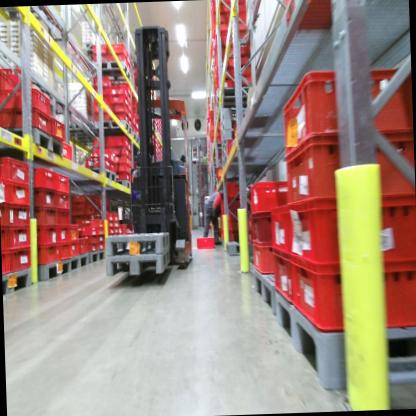pallet: (275, 287, 416, 382), (109, 248, 172, 280), (103, 230, 169, 260), (14, 124, 65, 162), (249, 271, 279, 319), (33, 256, 73, 287), (2, 265, 34, 296), (219, 81, 259, 105), (95, 60, 132, 85), (96, 116, 133, 140), (219, 108, 250, 129), (89, 166, 117, 186), (66, 119, 98, 135), (225, 237, 248, 259), (71, 253, 90, 272), (87, 249, 107, 266), (218, 119, 234, 139), (221, 131, 231, 152), (119, 177, 131, 189), (132, 131, 140, 143), (224, 155, 228, 169)
pallet_truck: (119, 21, 196, 278)
small_load_carrier: (286, 132, 415, 281), (279, 59, 414, 160), (291, 242, 416, 336), (250, 174, 291, 217), (2, 87, 53, 116), (2, 107, 52, 136), (270, 248, 294, 307), (271, 202, 295, 256), (223, 139, 244, 197), (251, 238, 283, 274), (0, 68, 35, 98), (0, 154, 33, 185), (251, 211, 275, 247), (30, 185, 58, 212), (8, 176, 31, 206), (30, 167, 58, 191), (6, 202, 31, 228), (33, 203, 59, 228), (10, 228, 32, 257), (9, 245, 34, 270), (34, 224, 59, 246), (36, 243, 60, 264), (84, 154, 112, 169), (52, 117, 67, 144), (211, 9, 233, 26), (210, 77, 238, 90), (93, 148, 117, 163), (107, 42, 127, 59), (221, 197, 244, 211), (215, 33, 235, 48), (215, 43, 235, 58), (58, 192, 73, 212), (220, 208, 243, 221), (57, 174, 71, 195), (221, 218, 242, 232), (111, 150, 129, 166), (2, 249, 13, 275), (219, 228, 241, 241), (108, 103, 128, 117), (1, 226, 12, 251), (233, 29, 251, 44), (110, 84, 128, 99), (110, 92, 129, 106), (77, 218, 106, 227), (218, 65, 238, 78), (212, 19, 230, 33), (109, 54, 128, 67), (92, 74, 111, 87), (110, 135, 129, 148), (58, 208, 71, 227), (0, 177, 9, 204), (0, 206, 11, 228), (115, 168, 132, 182), (92, 84, 110, 97), (92, 134, 110, 147), (92, 42, 109, 55), (59, 241, 72, 258), (63, 141, 74, 161), (78, 236, 89, 256), (233, 44, 254, 54), (93, 94, 110, 106), (111, 145, 128, 157), (61, 226, 72, 244), (238, 53, 254, 65), (232, 20, 251, 30), (213, 1, 232, 11), (80, 226, 99, 236), (239, 74, 254, 86), (110, 112, 128, 122), (219, 57, 236, 67), (232, 1, 247, 12), (114, 162, 129, 173), (92, 104, 110, 113), (100, 210, 113, 222), (70, 224, 81, 238), (92, 112, 109, 121), (70, 239, 79, 256), (239, 65, 254, 75), (232, 11, 247, 21), (91, 53, 109, 61), (88, 241, 98, 250), (97, 226, 107, 235), (247, 227, 253, 242), (127, 114, 133, 128), (88, 235, 99, 242), (126, 82, 131, 97), (246, 215, 252, 227), (111, 161, 117, 172), (113, 211, 119, 221), (97, 243, 105, 250), (98, 235, 105, 243), (128, 140, 132, 153), (127, 90, 131, 103), (127, 60, 132, 70), (127, 53, 131, 64), (129, 157, 133, 168), (128, 108, 132, 119), (128, 102, 132, 113), (113, 228, 120, 234), (132, 122, 136, 132), (128, 150, 132, 159), (109, 227, 114, 234), (114, 221, 119, 228), (109, 220, 113, 227), (133, 115, 136, 124)
